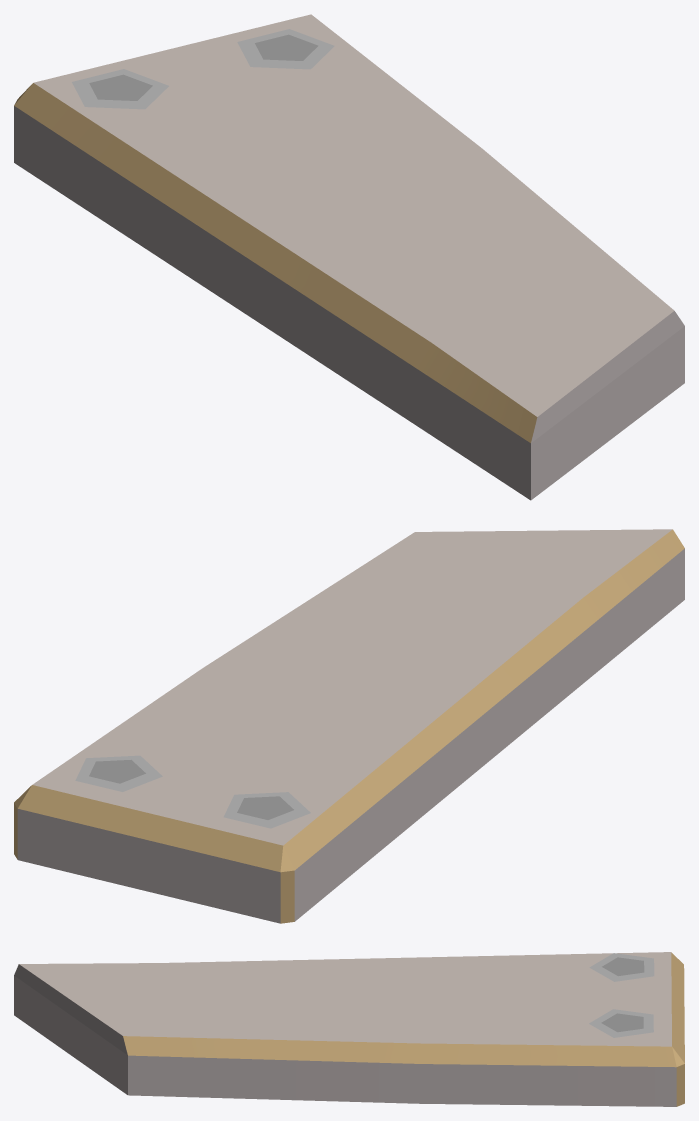
The model's file is WoodBoardG_1.glb.
3 views of the same model, one above another, from view 1: azimuth 30°, elevation 25°; view 2: azimuth 150°, elevation 25°; view 3: azimuth 270°, elevation 25° (orthographic). The views are drawn at different scales.
Parts seen in each view (by area): view 1: WoodBoardG; view 2: WoodBoardG; view 3: WoodBoardG.
Part boxes in pixels (box(x1,y1,x2,y2)): WoodBoardG: box(14, 14, 684, 500); WoodBoardG: box(14, 529, 684, 923); WoodBoardG: box(14, 952, 684, 1106).
Bounding box in the file's own units: 0.6143 × 0.1575 × 1.65.
